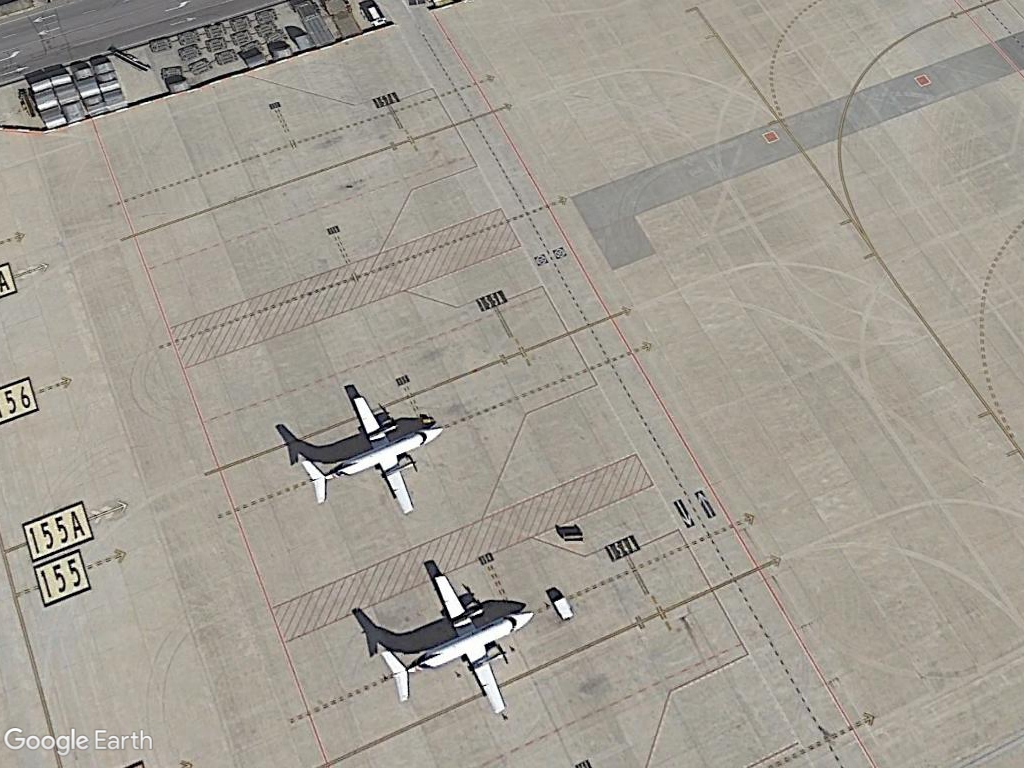propeller: (372, 573, 540, 723), (296, 395, 447, 517)
